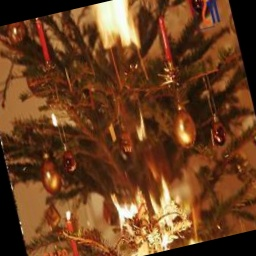fire: (105, 159, 206, 253)
